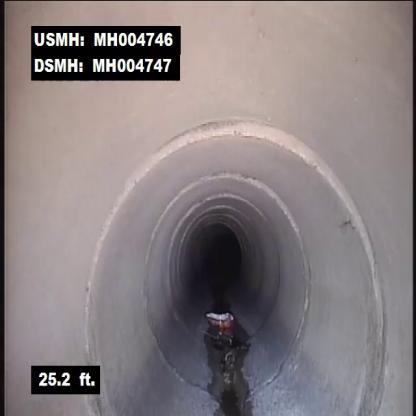jntoffs: (103, 107, 370, 192)
